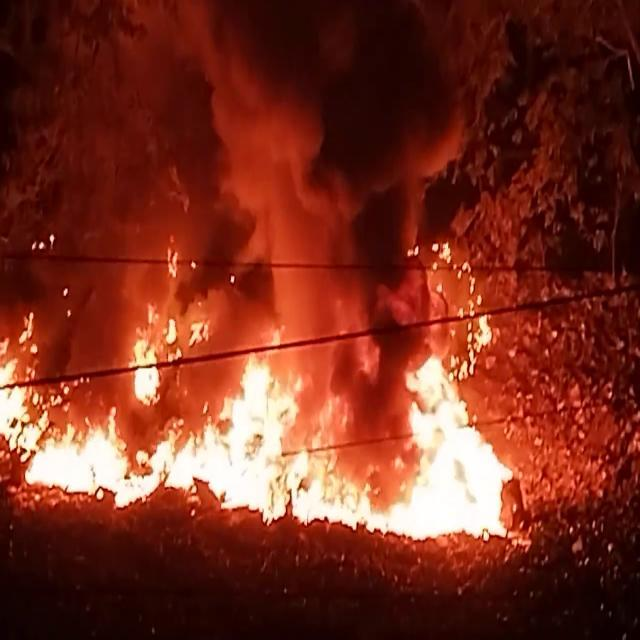Fire: (0, 326, 520, 536)
Smoke: (0, 0, 466, 339)
